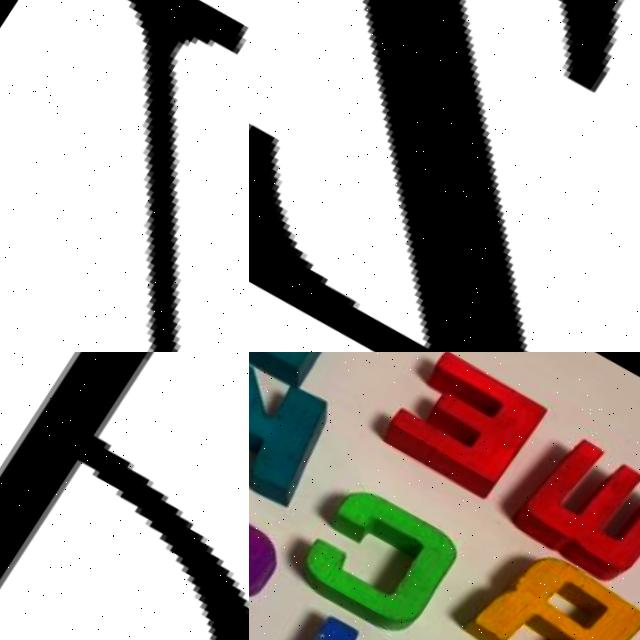A: (0, 352, 249, 640)
C: (294, 479, 465, 640)
D: (249, 352, 359, 390)
E: (382, 352, 556, 511)
K: (249, 352, 354, 523)
N: (260, 601, 466, 640)
R: (460, 537, 640, 640)
S: (249, 469, 301, 640)
V: (116, 0, 249, 352)
W: (509, 431, 640, 600)
Z: (249, 0, 640, 352)
